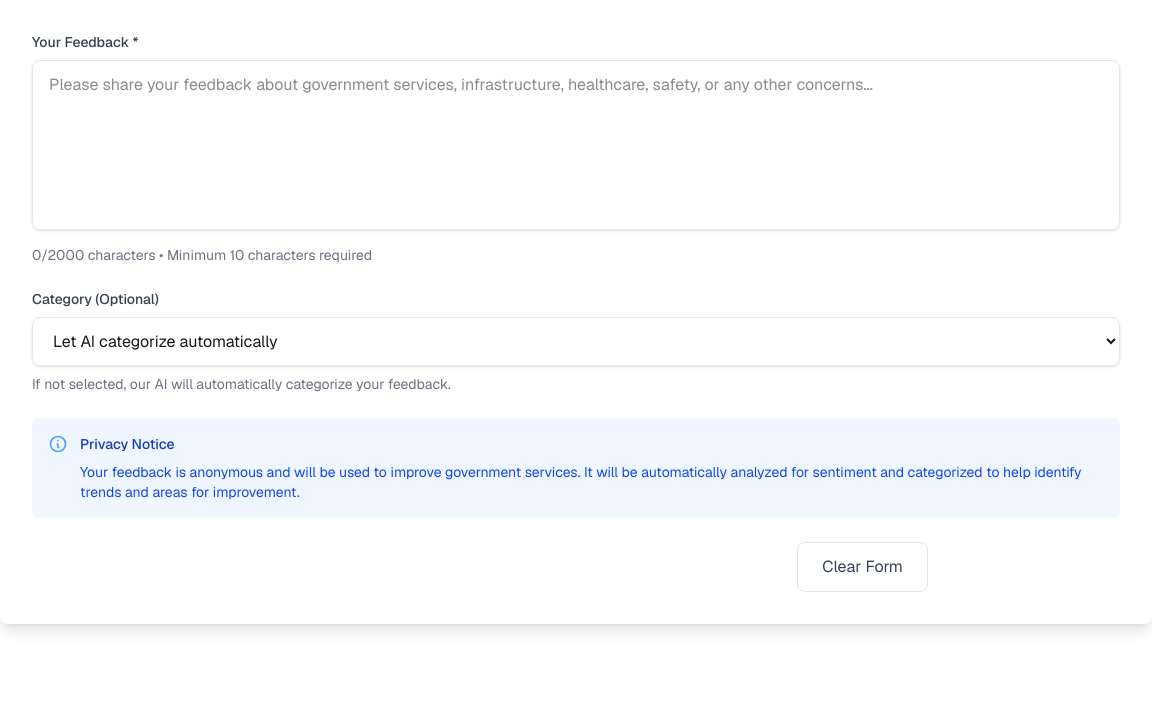
Scenario: FeedbackForm › clears form when clear button is clicked
// Fill form
Step 1. Replace the text in the text box labelled "Your Feedback *" with "Some feedback text" → (576, 145), box [32,60,1120,230]
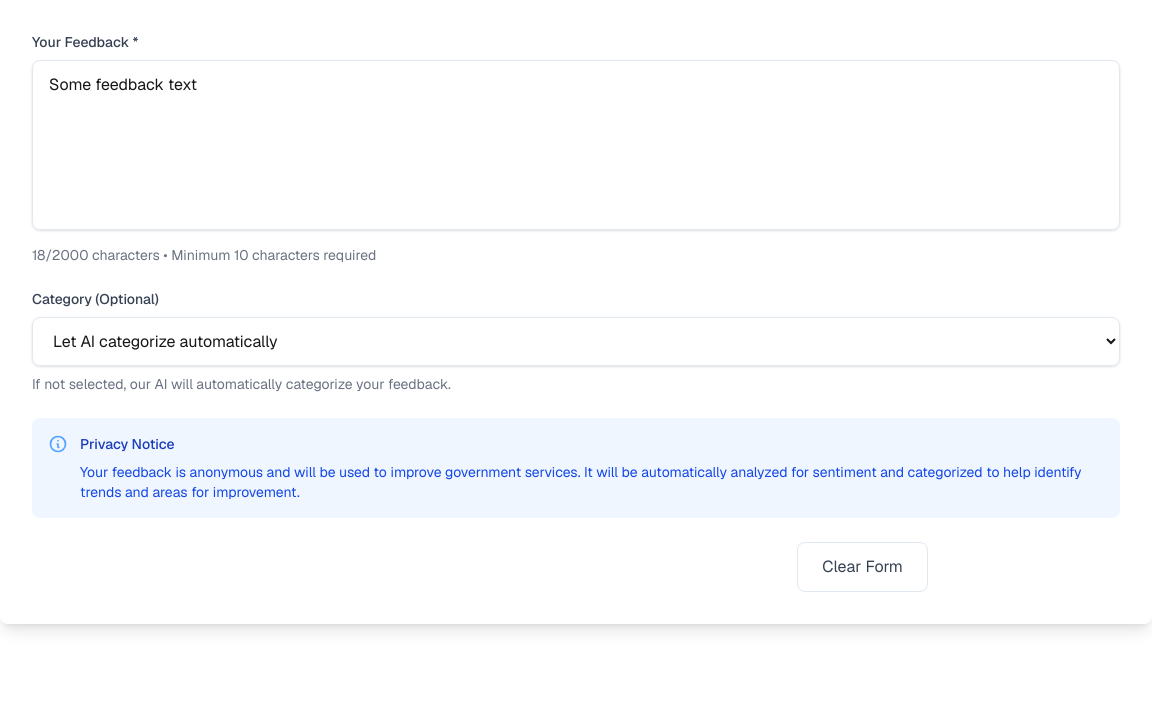
Step 2. Select "Health & Healthcare" in the dropdown labelled "Category (Optional)" → (576, 342), box [32,317,1120,366]
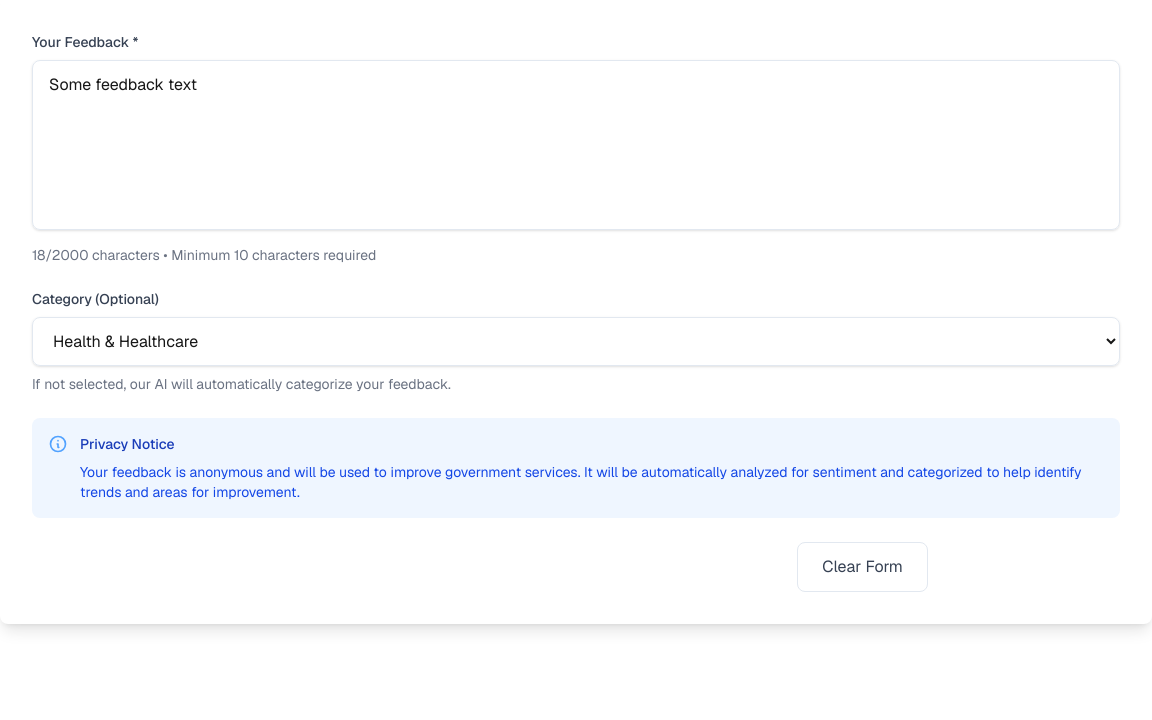
// Clear form
Step 3. Click the button "Clear Form" → (863, 567), box [797,542,928,592]
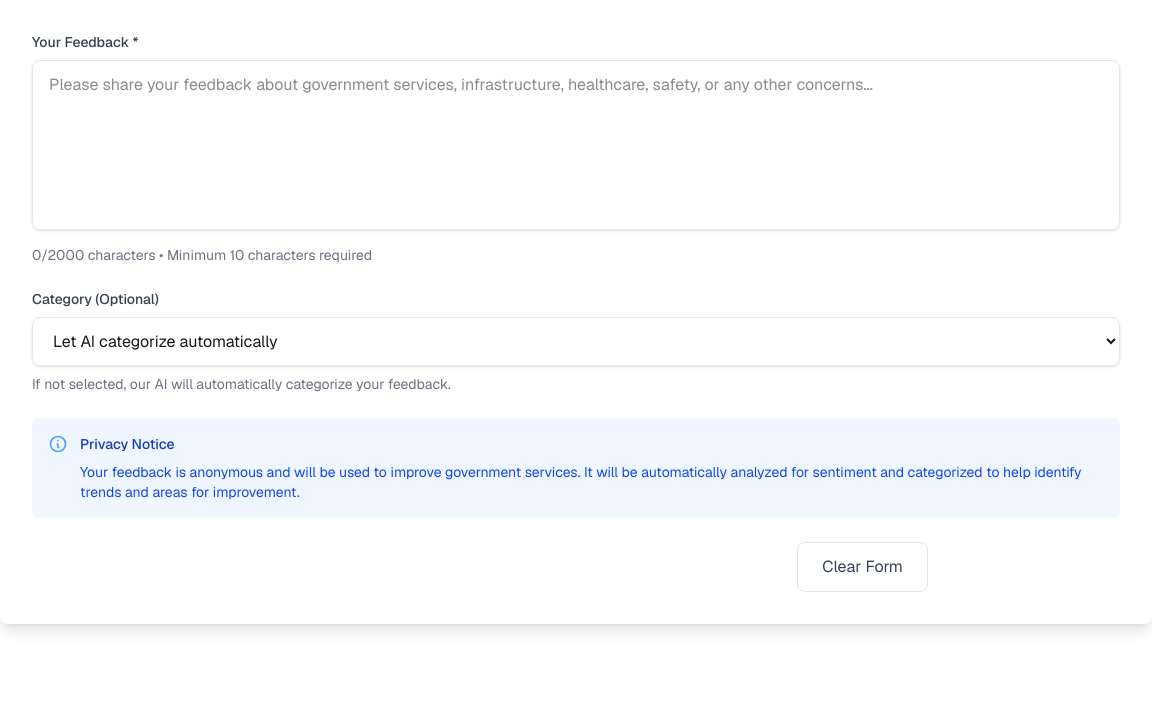
expect the text box labelled "Your Feedback *" is empty: met, box [32,60,1120,230]
